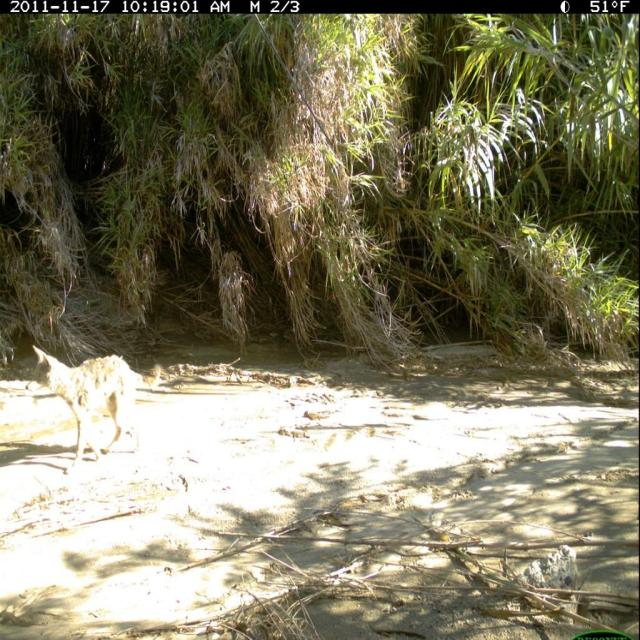coyote: (21, 335, 165, 473)
